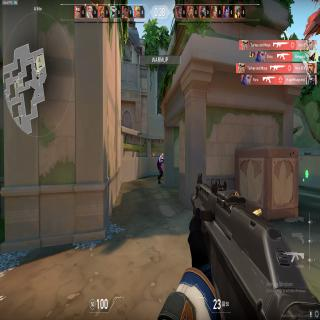ENEMY-BODY: (158, 152, 163, 185)
ENEMY-HEAD: (161, 153, 164, 158)
